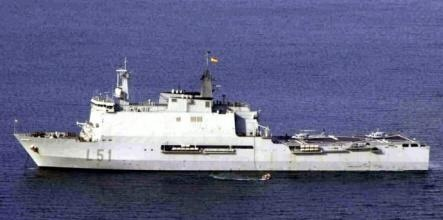warship: (9, 67, 438, 171)
